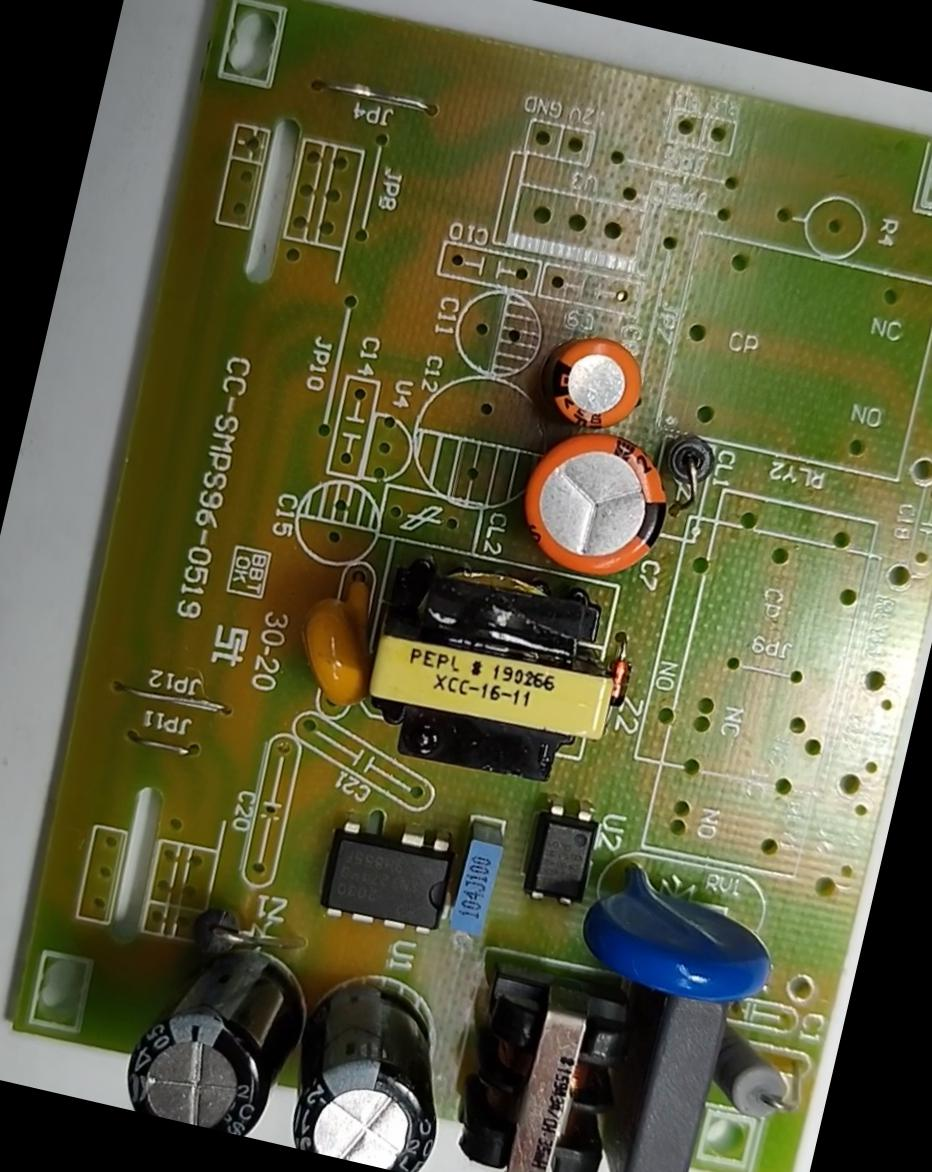Cap1: (506, 414, 684, 594)
Cap2: (537, 327, 655, 444)
Cap3: (281, 960, 474, 1171)
Cap4: (115, 922, 322, 1144)
MOSFET: (310, 808, 468, 955)
Mov: (573, 850, 792, 1022)
Resistor: (706, 1022, 809, 1147)
Transformer: (347, 538, 644, 802), (440, 941, 659, 1171)
